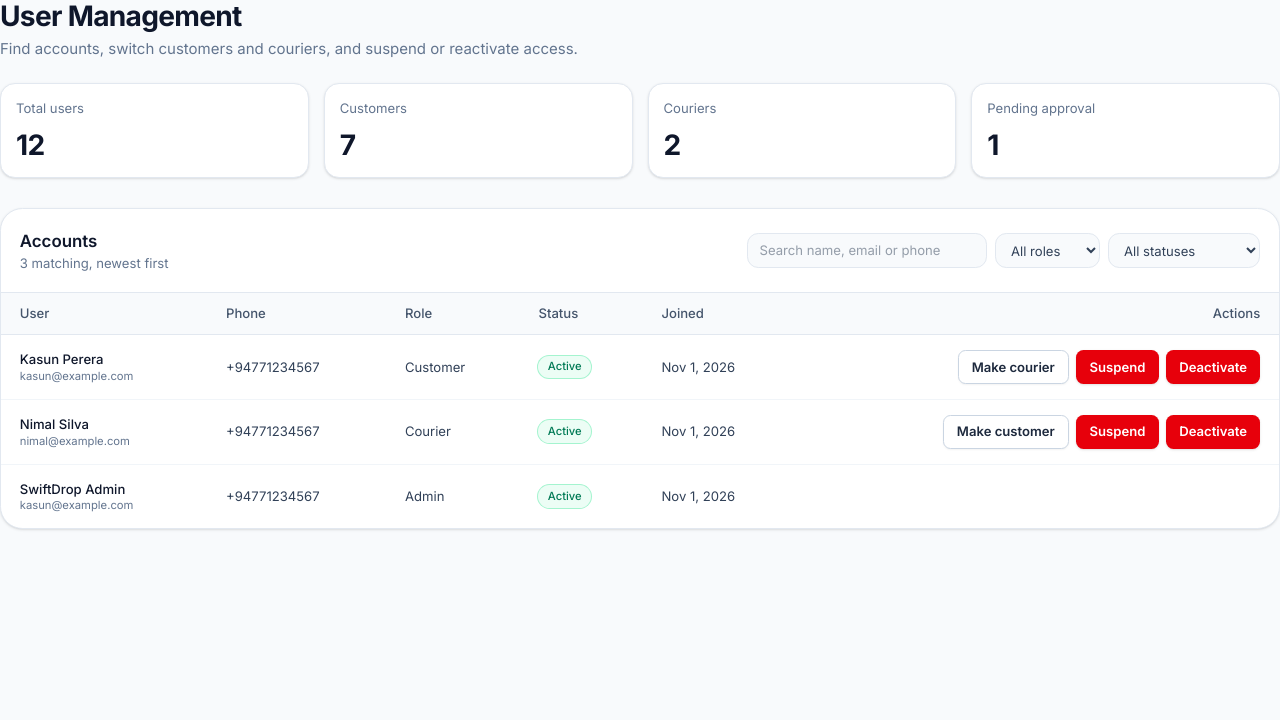
Test: a role change is confirmed first, then saved and the list reloads
Expected: the text "Kasun Perera" is shown, [20,351,104,367]
Click the button "Make courier" at (1013,367), box [958,350,1069,384]
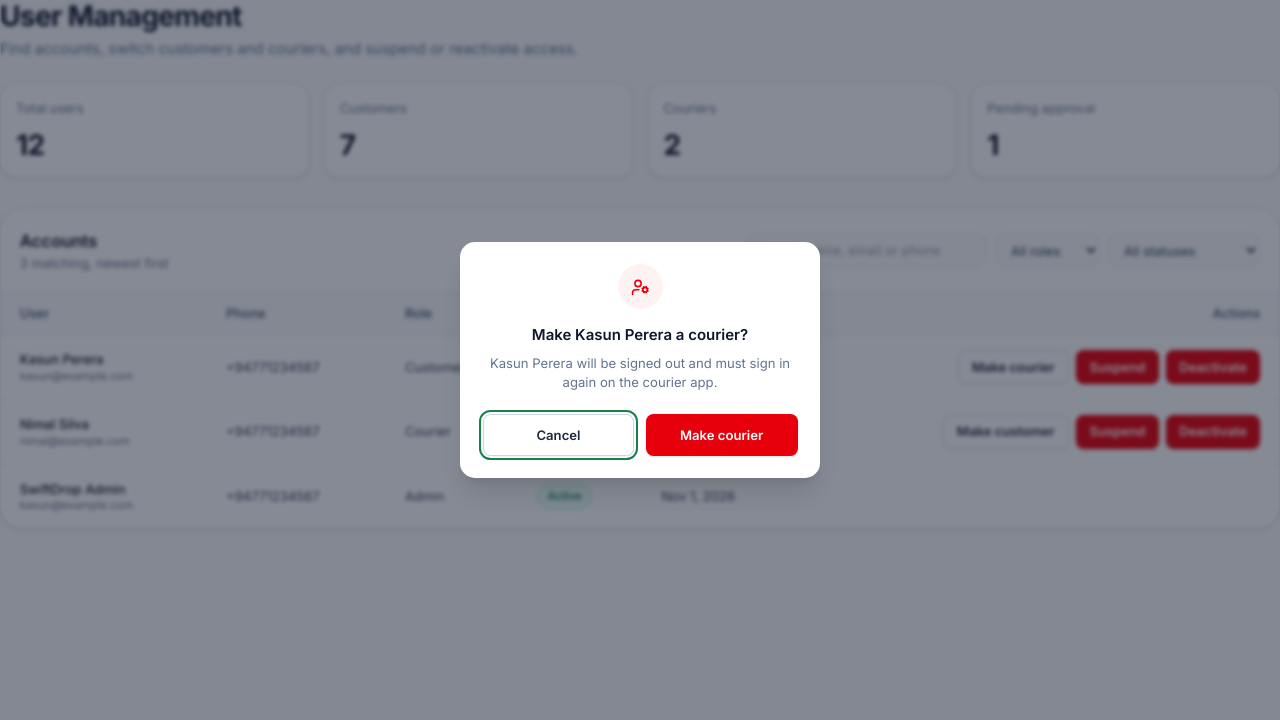
Click the button "Make courier" at (722,435), box [646,414,798,456]
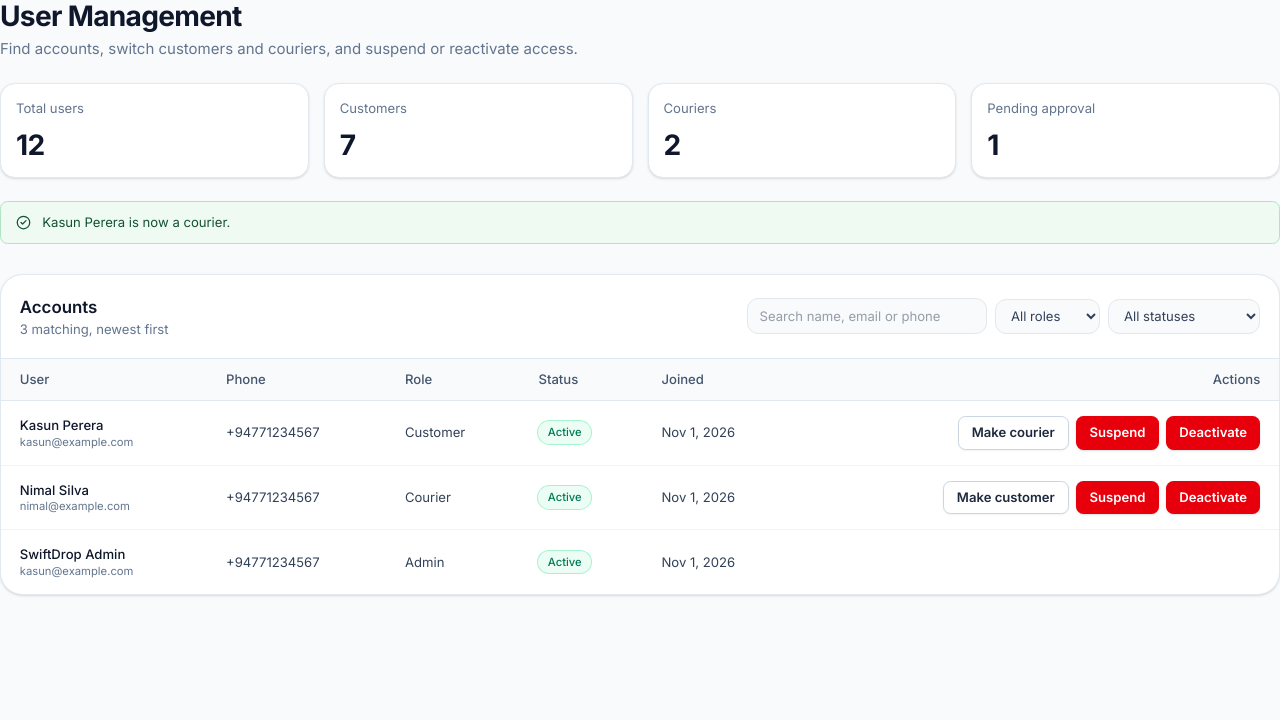
Now the text "Kasun Perera is now a courier." is shown, box [42,213,230,232]
